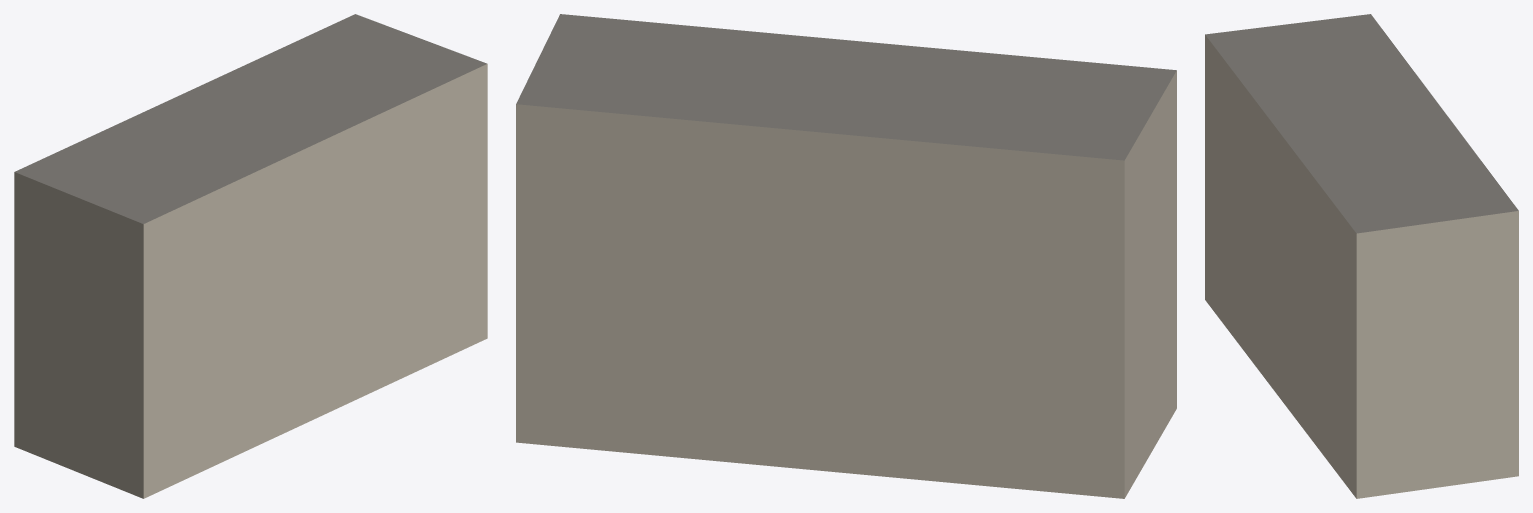
3 renders of one model, left to right at view 1: azimuth 30°, elevation 25°; view 2: azimuth 150°, elevation 25°; view 3: azimuth 270°, elevation 25°, orthographic. The views are drawn at different scales.
Visible parts, largest first — view 1: HP-w505643606; view 2: HP-w505643606; view 3: HP-w505643606.
Part boxes in pixels (left/top/right/bottom): HP-w505643606: left=14, top=14, right=487, bottom=498; HP-w505643606: left=516, top=14, right=1176, bottom=498; HP-w505643606: left=1205, top=14, right=1518, bottom=498.
Bounding box in the file's own units: 21.29 × 12 × 12.86.
